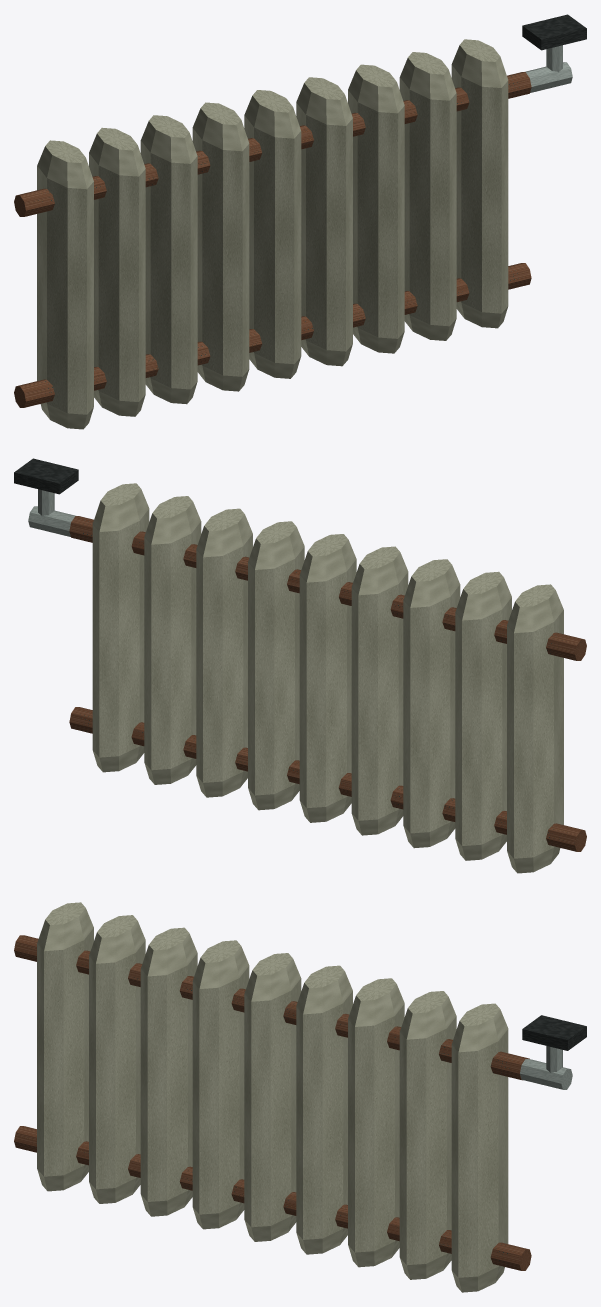
The model's file is Radiator.obj.
3 renders of one model, top to bottom at view 1: azimuth 30°, elevation 25°; view 2: azimuth 150°, elevation 25°; view 3: azimuth 330°, elevation 25°, orthographic.
Visible parts, largest first — view 1: Radiator; view 2: Radiator; view 3: Radiator.
Part boxes in pixels (x1,y1,x2,y2): Radiator: [14, 14, 586, 429]; Radiator: [14, 458, 586, 873]; Radiator: [14, 902, 586, 1292].
Size of the model in its own units: 1.35 by 0.6225 by 0.18.
Materials: 4 (4 with a texture image).
